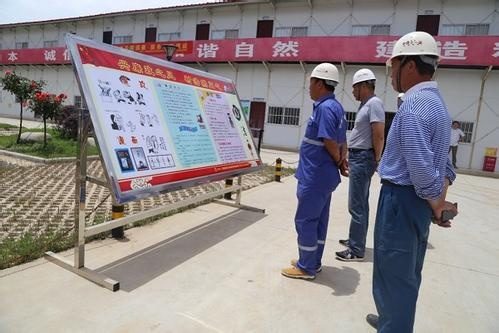white: (388, 30, 441, 100), (307, 60, 339, 103), (350, 66, 377, 104)
